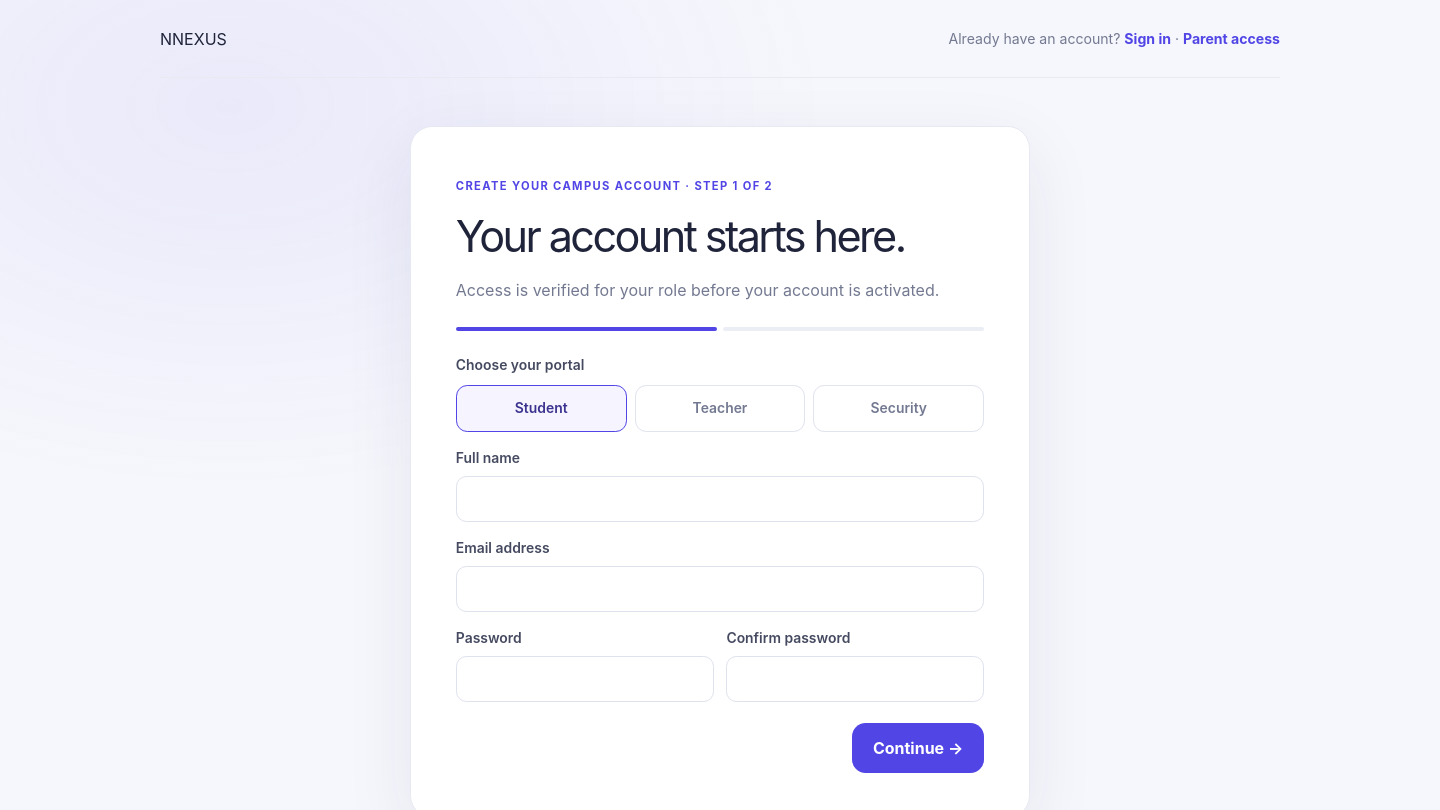
SignupPage › allows retry when campus batch options fail to load
Later steps or results of the test are not shown.
Type "Asha Student" into the field labelled "Full name" at (720, 499), box [456,476,984,522]
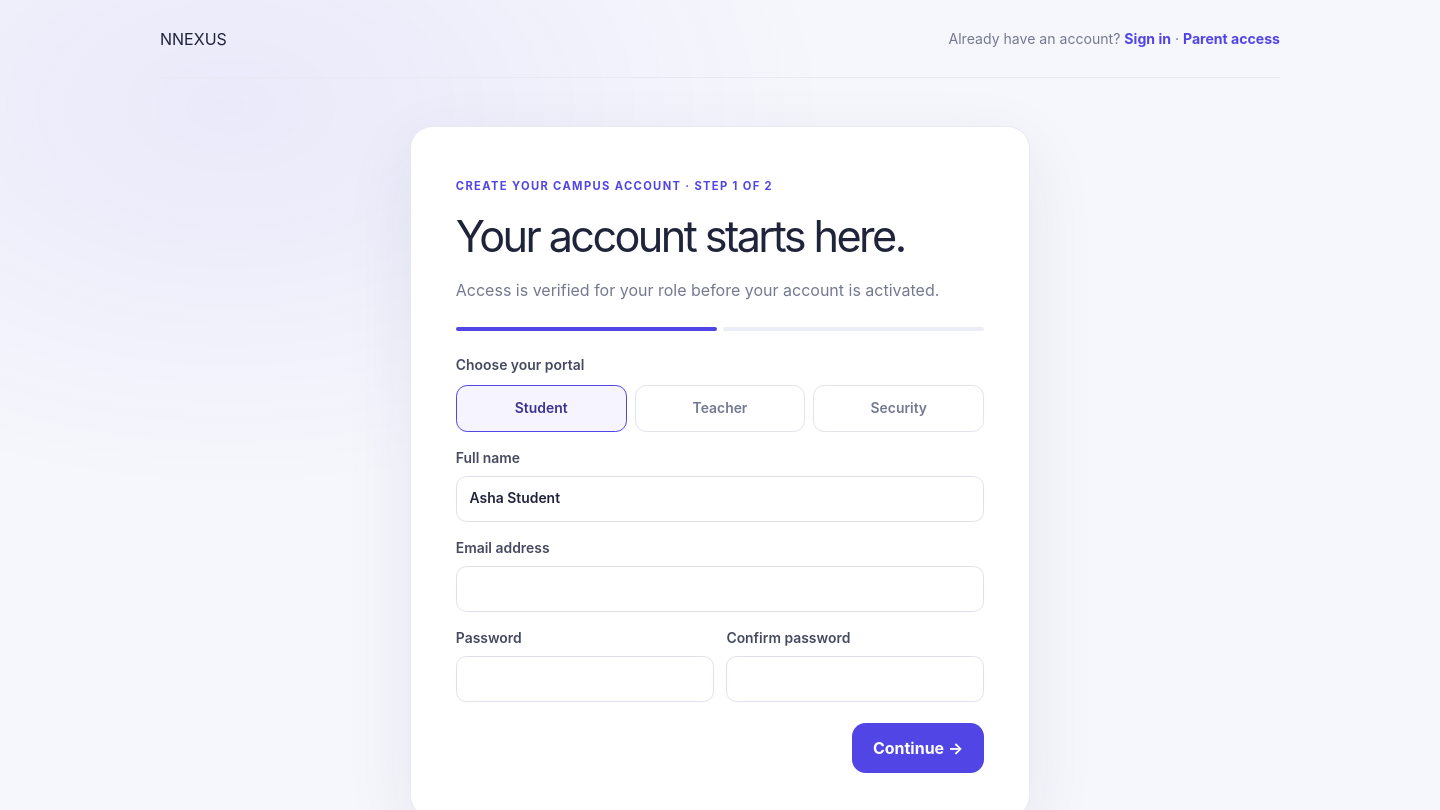
Type "asha@example.edu" into the field labelled "Email address" at (720, 589), box [456,566,984,612]
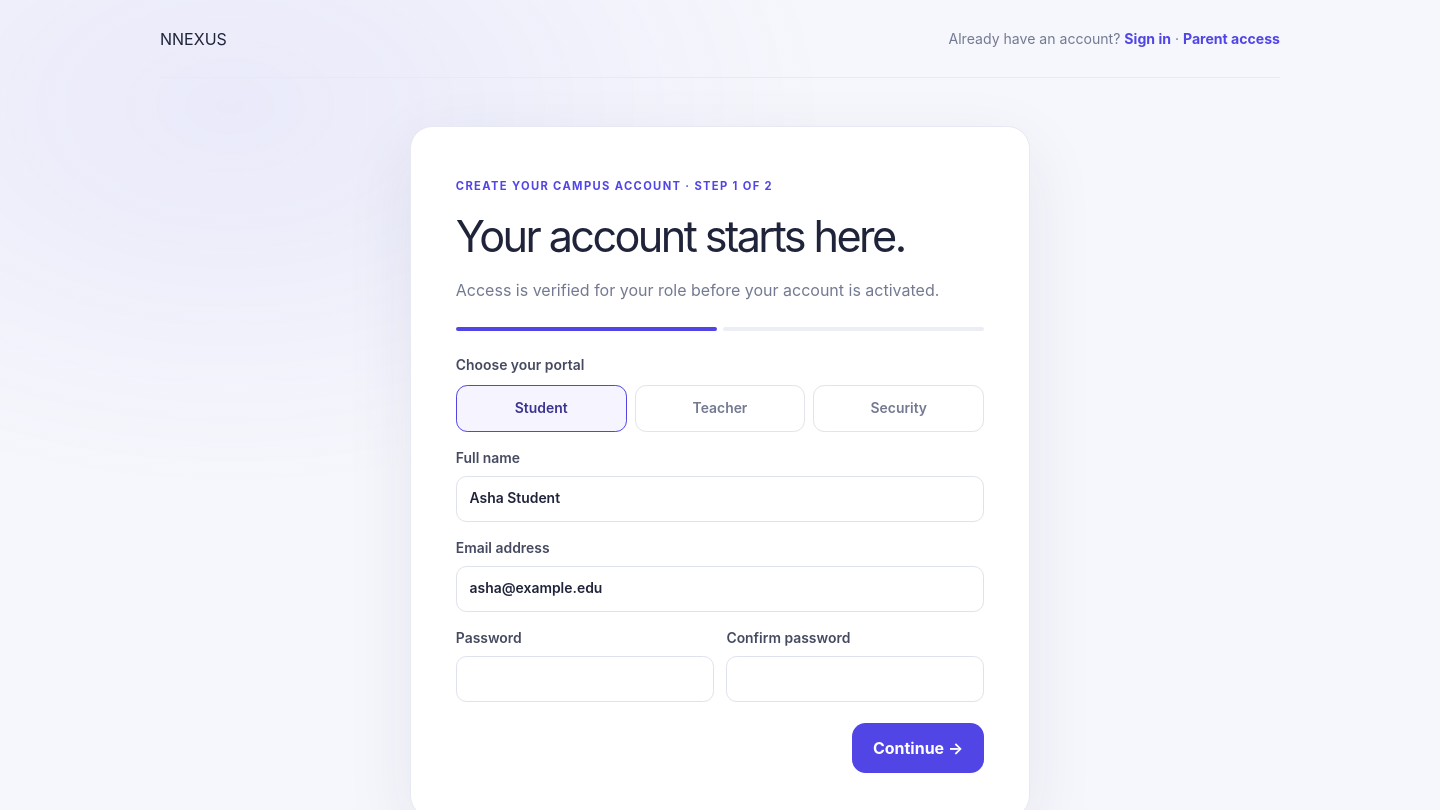
Type "correct-horse-42" into the password field labelled "Password" at (585, 679), box [456,656,714,702]
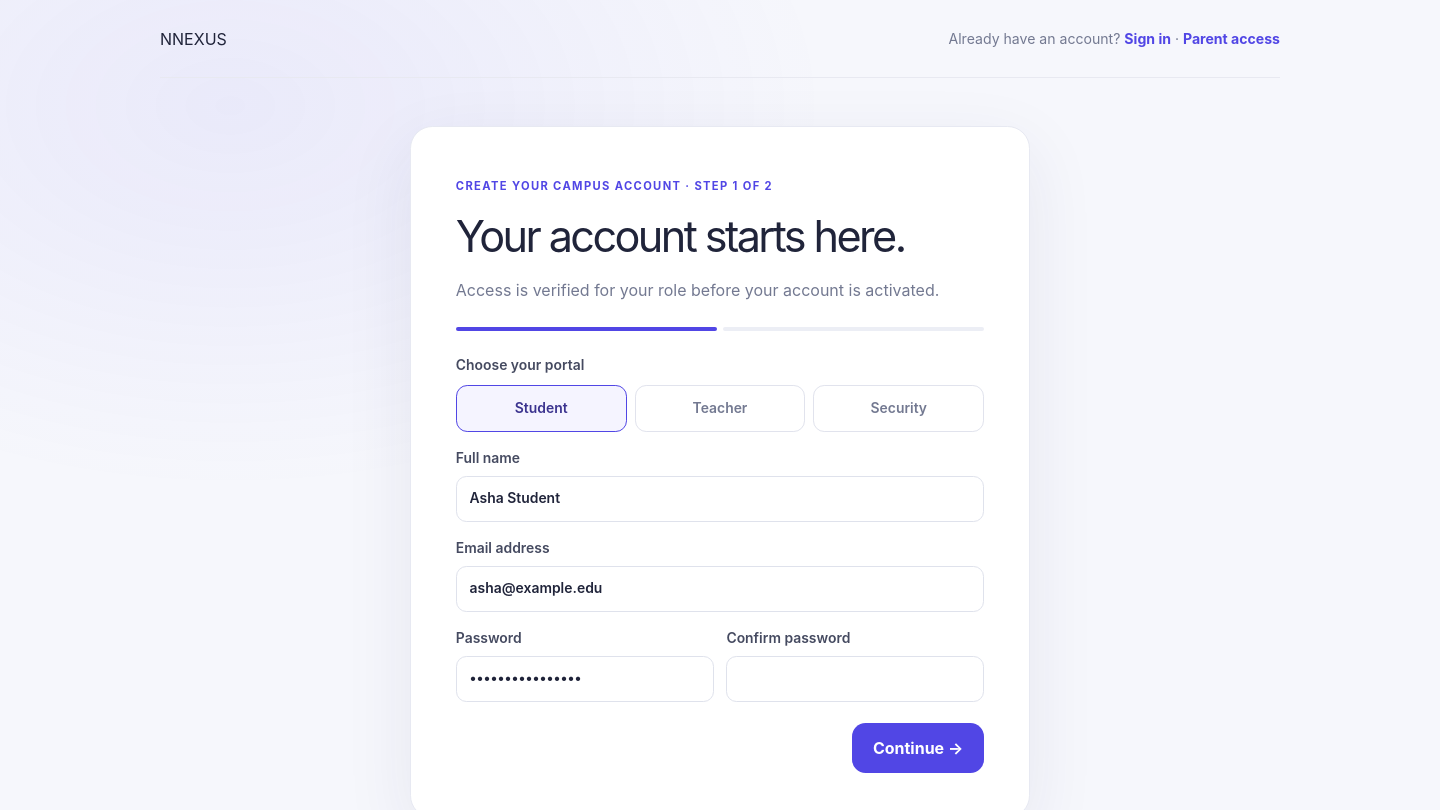
Type "correct-horse-42" into the password field labelled "Confirm password" at (855, 679), box [726,656,984,702]
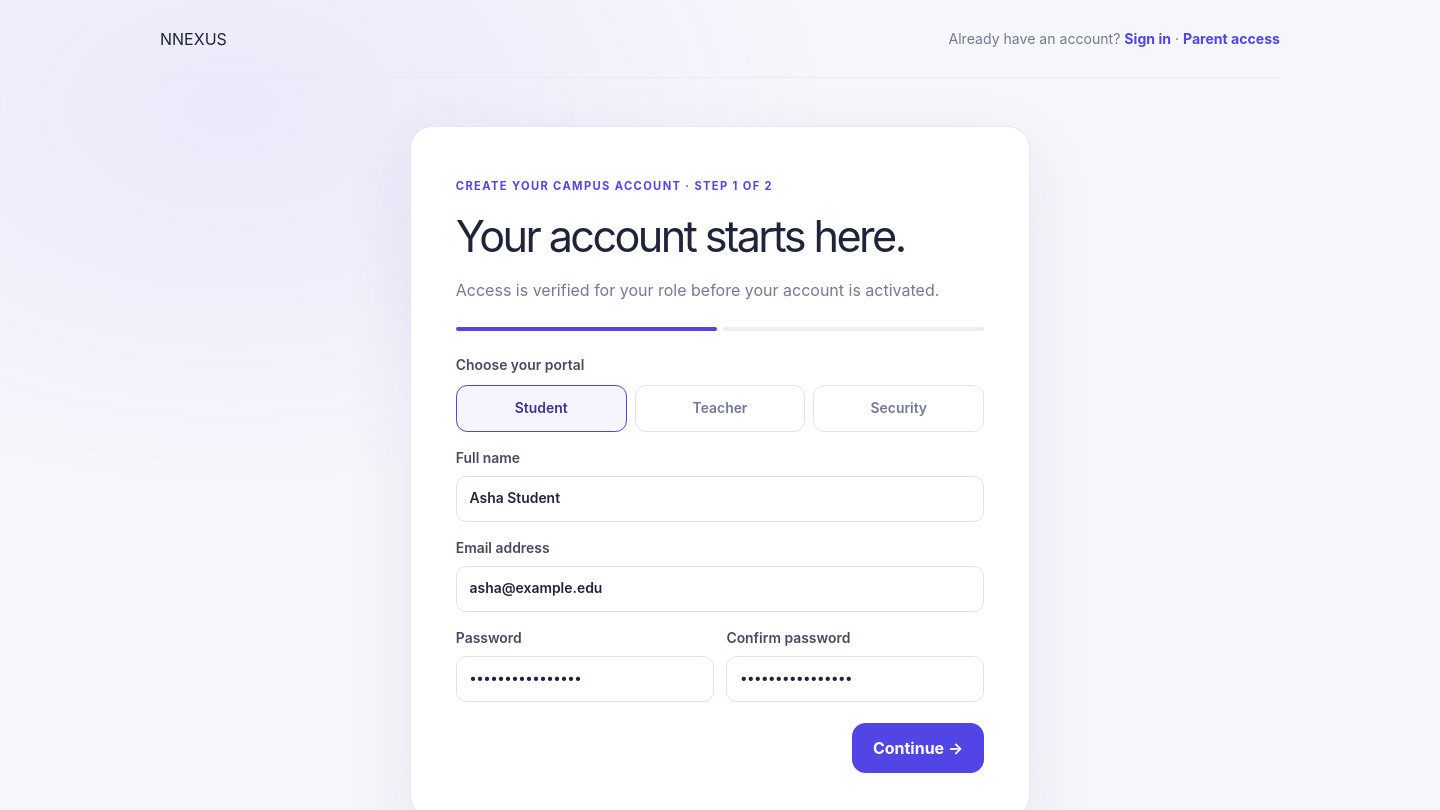
Click the button "Continue →" at (918, 748), box [852,722,984,772]
(page scrolled)
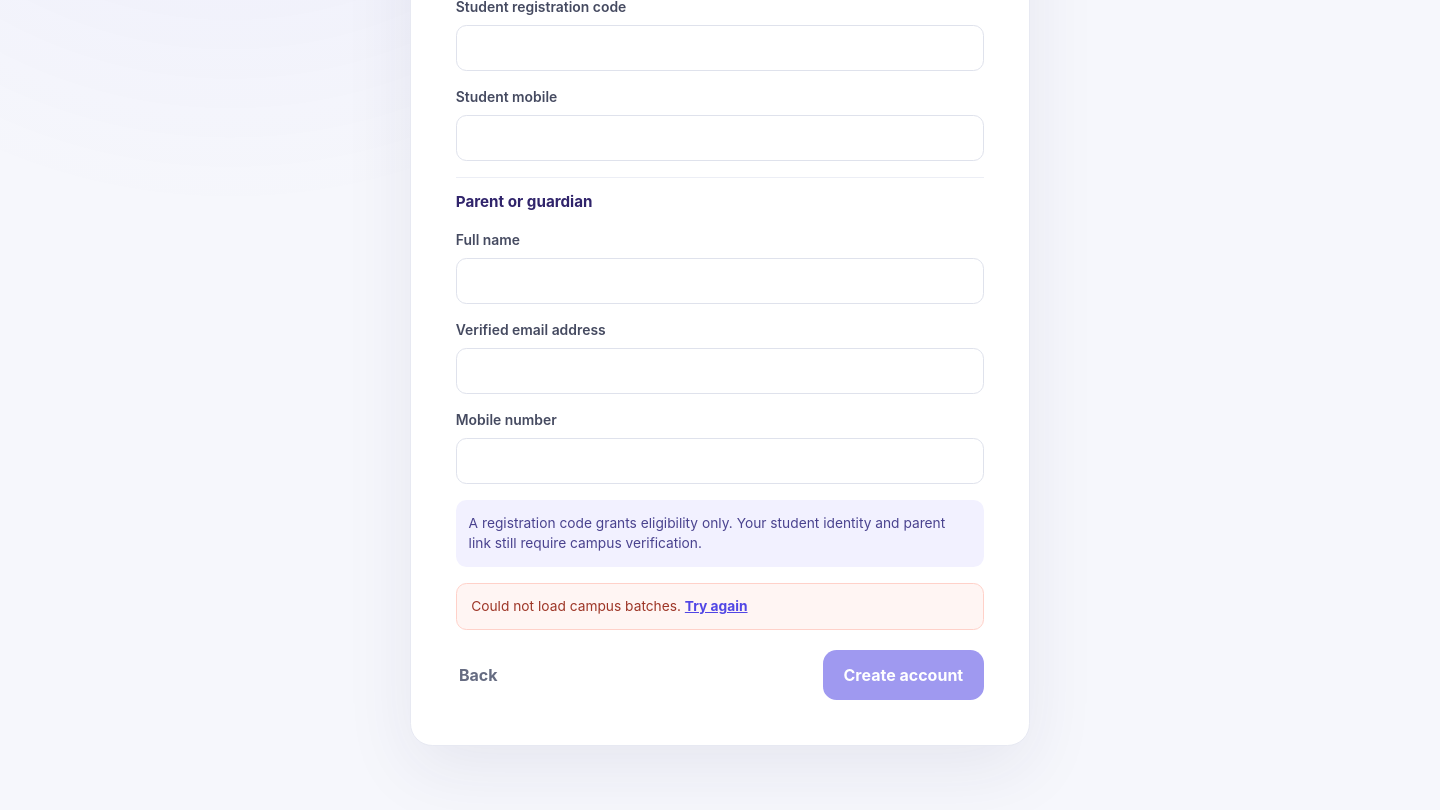
Result: the message shows "Could not load campus batches" at [471,598,681,614]
